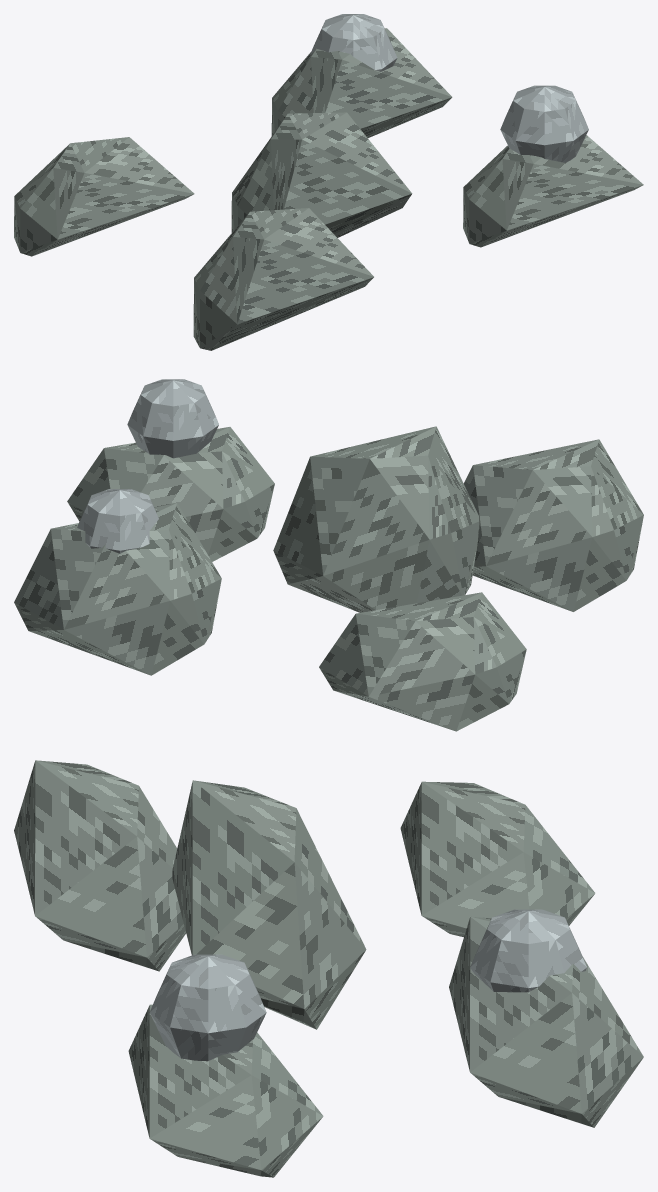
Rendered from yrax_scrap.glb.
3 renders of one model, top to bottom at view 1: azimuth 30°, elevation 25°; view 2: azimuth 150°, elevation 25°; view 3: azimuth 270°, elevation 25°, orthographic. The views are drawn at different scales.
Parts seen in each view (by area): view 1: block_individual irregular fragment (×5), block_small metallic sphere (×2); view 2: block_individual irregular fragment (×5), block_small metallic sphere (×2); view 3: block_individual irregular fragment (×5), block_small metallic sphere (×2).
Boxes of the visible parts, left/top/right/bottom form: block_individual irregular fragment (×5): left=14, top=28, right=643, bottom=350; block_small metallic sphere (×2): left=310, top=14, right=588, bottom=162; block_individual irregular fragment (×5): left=14, top=426, right=643, bottom=731; block_small metallic sphere (×2): left=77, top=379, right=218, bottom=553; block_individual irregular fragment (×5): left=14, top=760, right=643, bottom=1177; block_small metallic sphere (×2): left=149, top=909, right=586, bottom=1061.
Bounding box in the file's own units: 0.0887 × 0.0266 × 0.0723.
2 materials, 2 textured.
